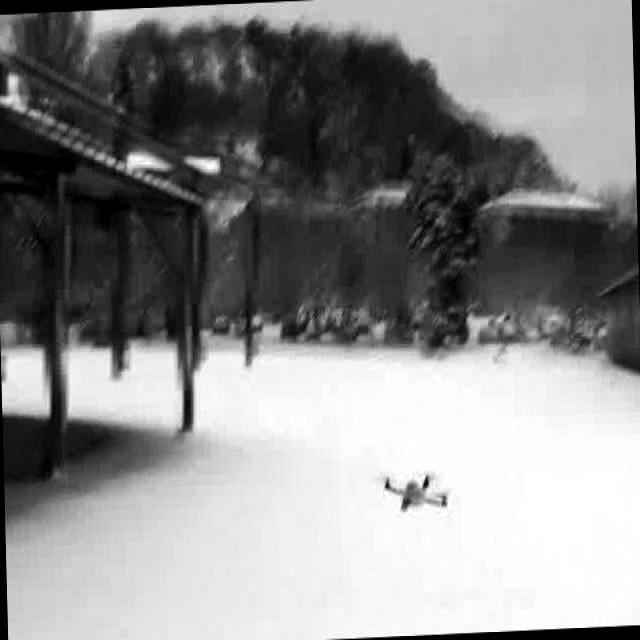drone: (381, 461, 458, 520)
